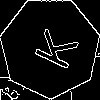K: (25, 22, 80, 72)
